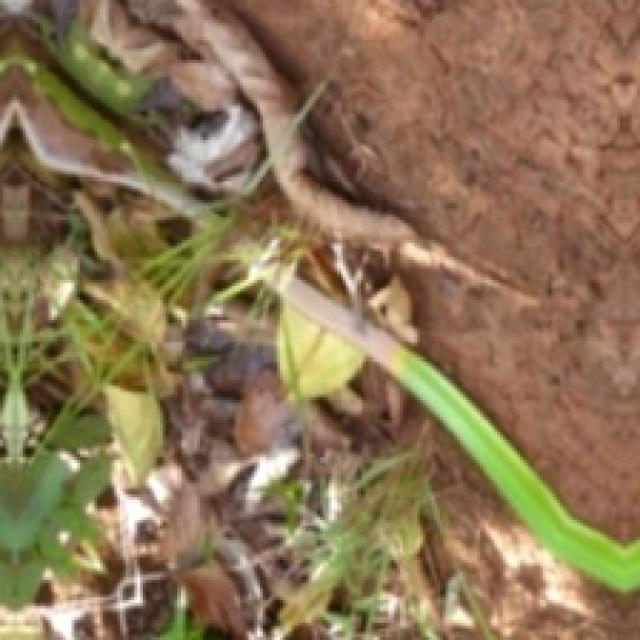red-tailed green ratsnake: (269, 275, 640, 589), (0, 100, 201, 214)
